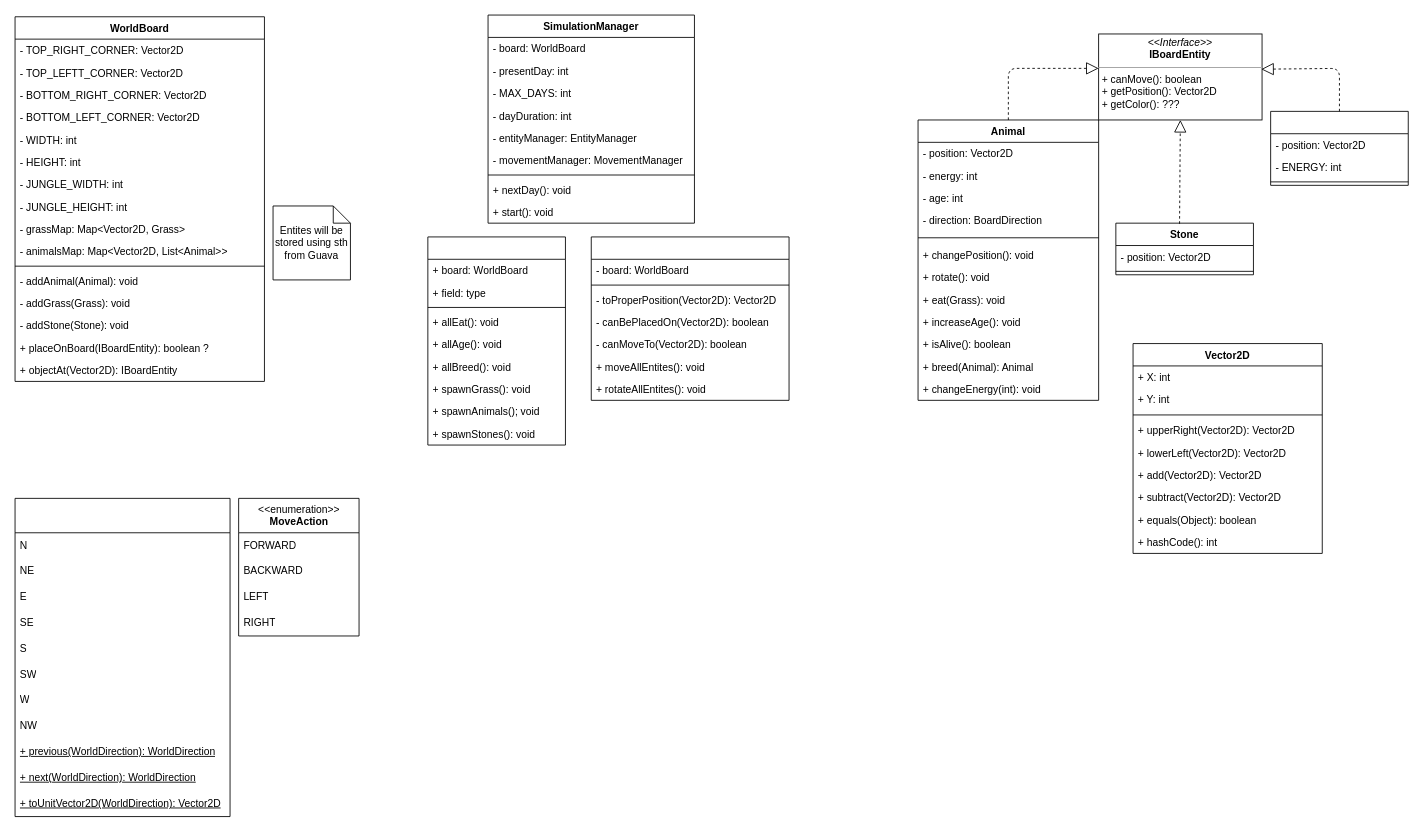
Image size: 1423x832. Some labels were removed from this diagram. The box of each missing label's shape, as (x1, y1, x2, y2) in pixels:
<<enumeration>> BoardDirection: (14, 498, 230, 817)
EntityManager: (427, 236, 565, 445)
Grass: (1270, 111, 1408, 185)
MovementManager: (590, 236, 789, 400)
